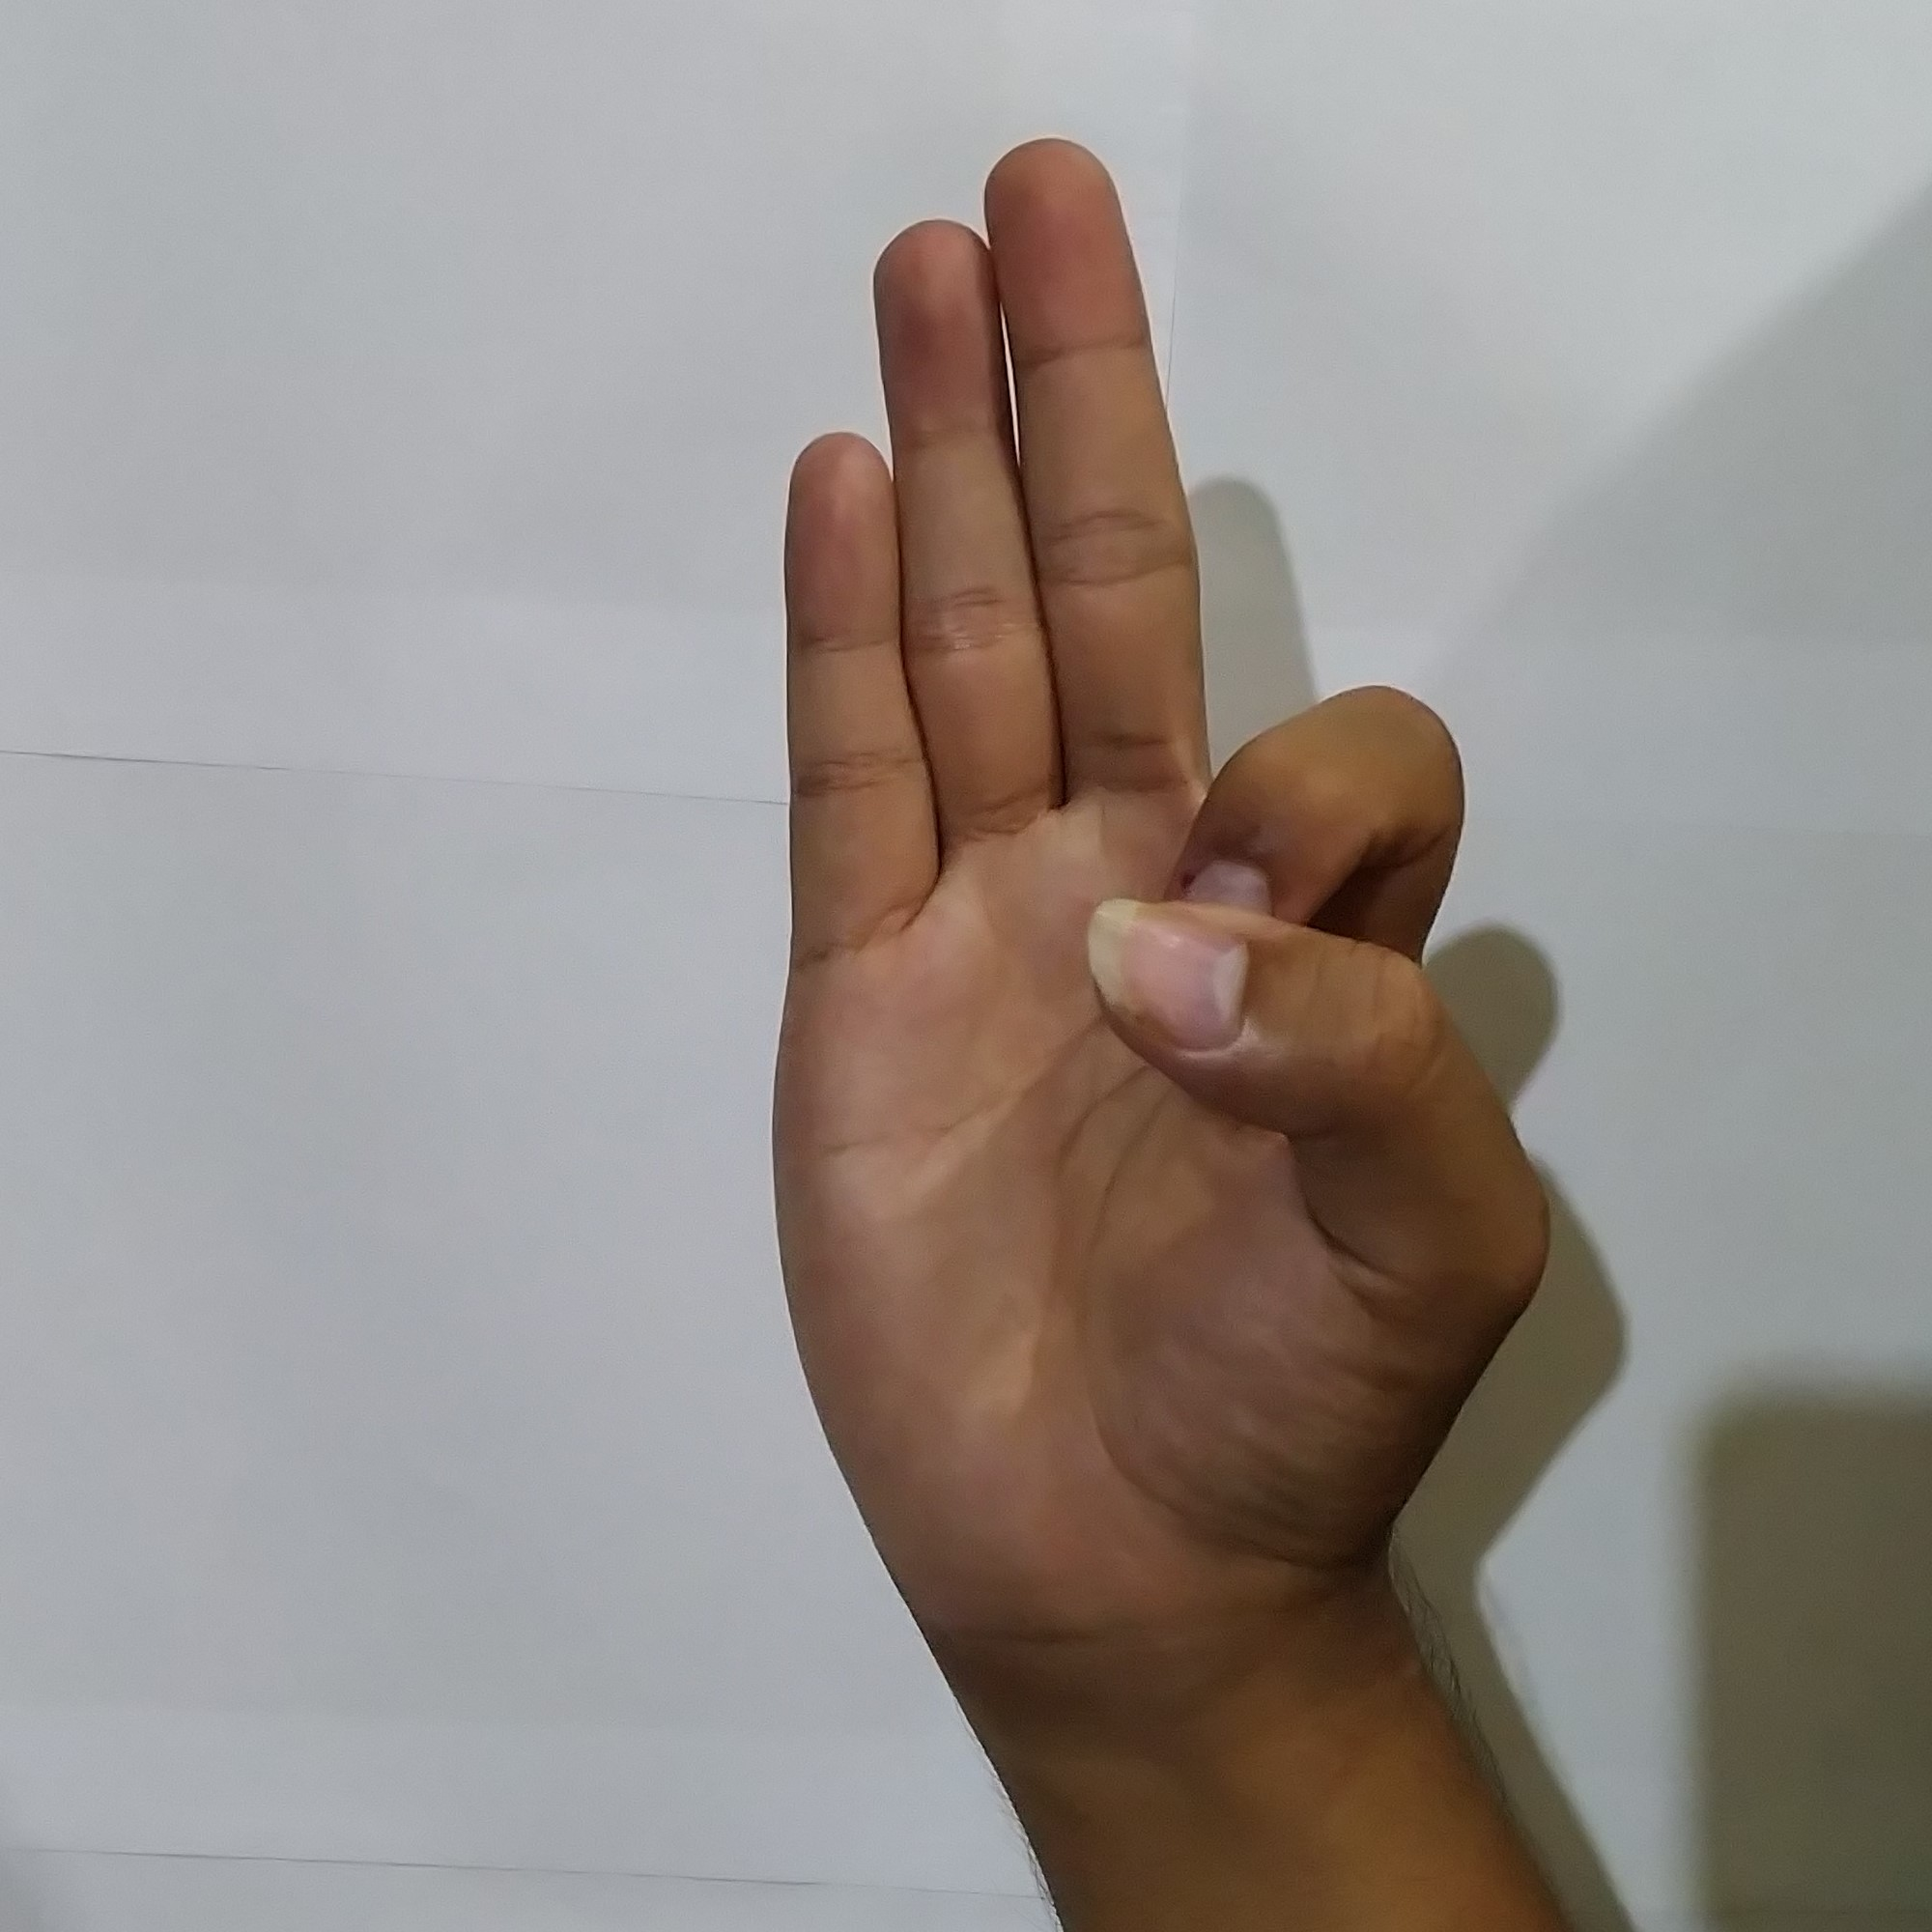F: (741, 113, 1576, 1576)
